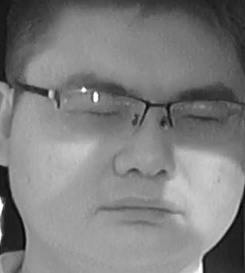blink: (183, 109, 217, 126), (88, 105, 119, 121)
glass: (55, 88, 149, 141), (168, 96, 244, 145)
mouth: (99, 196, 182, 228)
